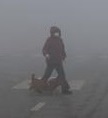person: (41, 25, 70, 95)
